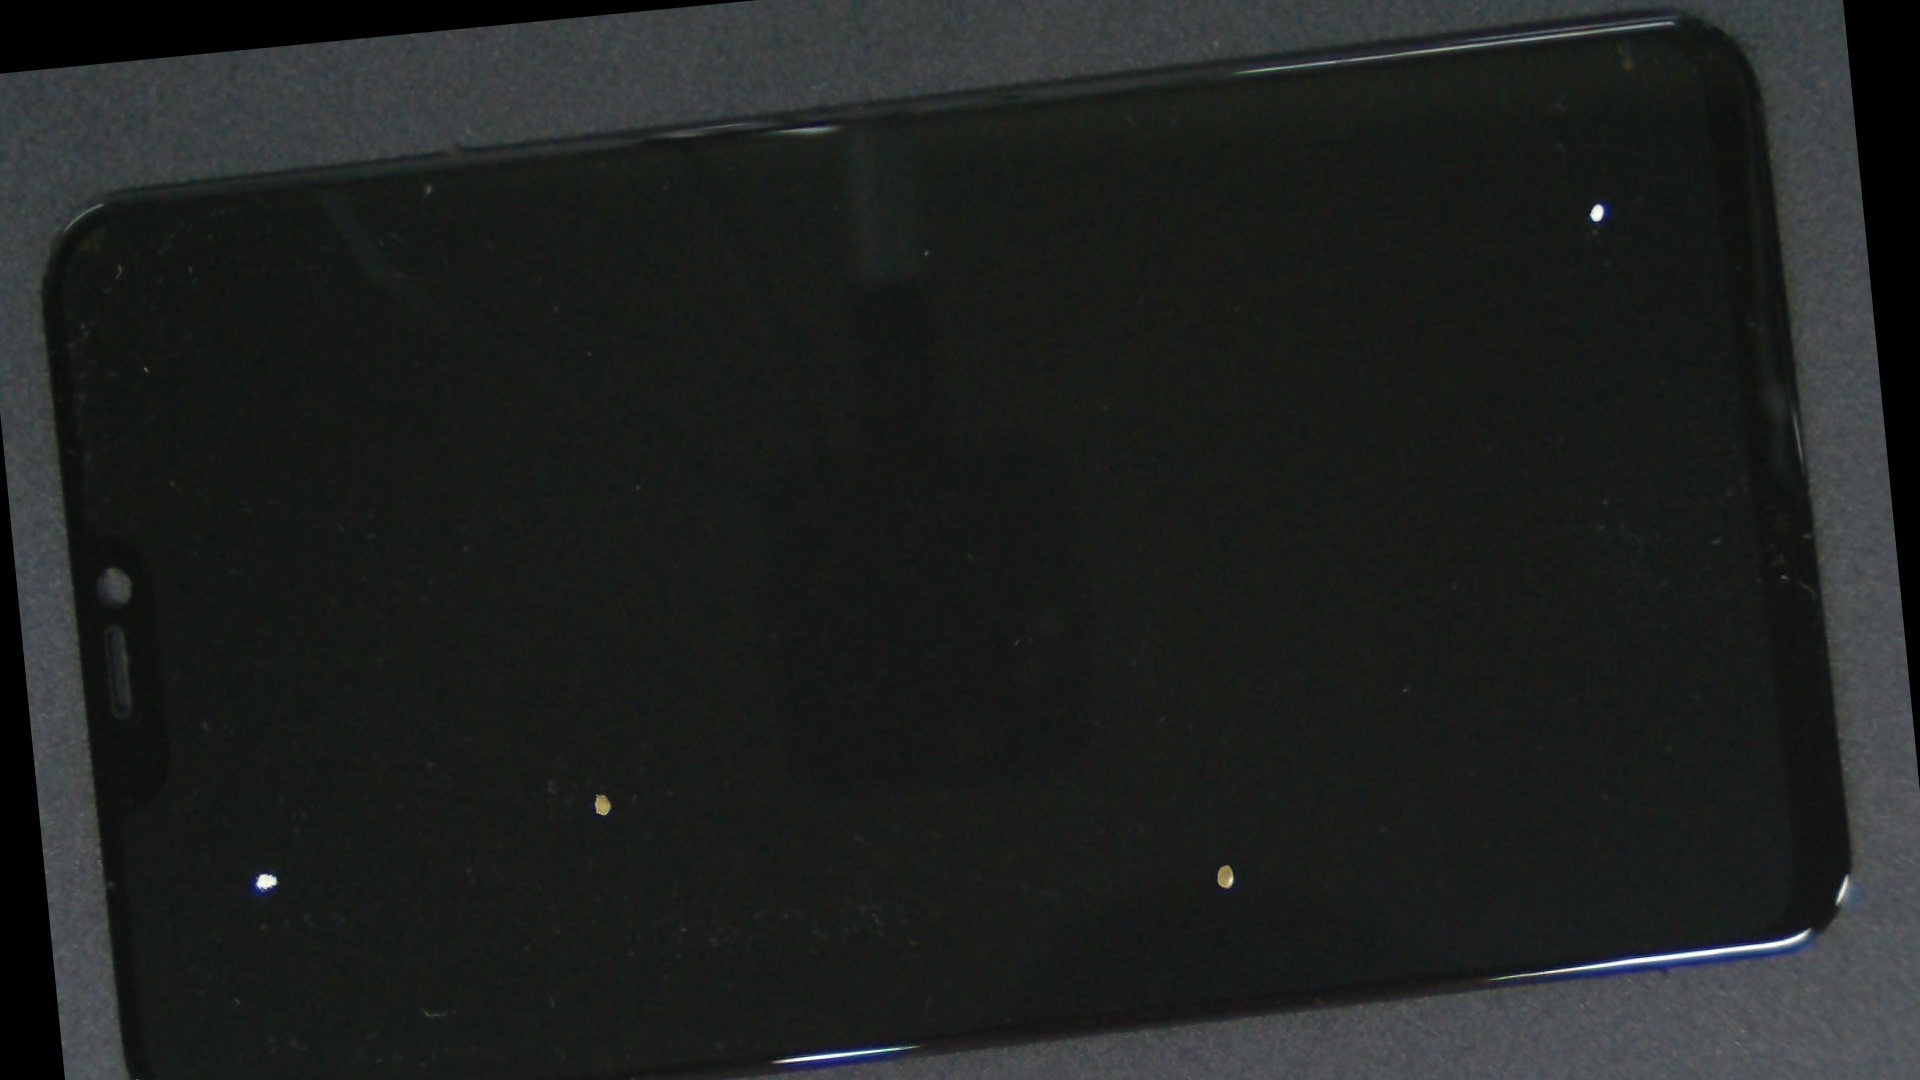oil: (600, 355, 1847, 1080), (285, 378, 919, 1080), (783, 36, 1874, 421), (115, 452, 404, 1080)
